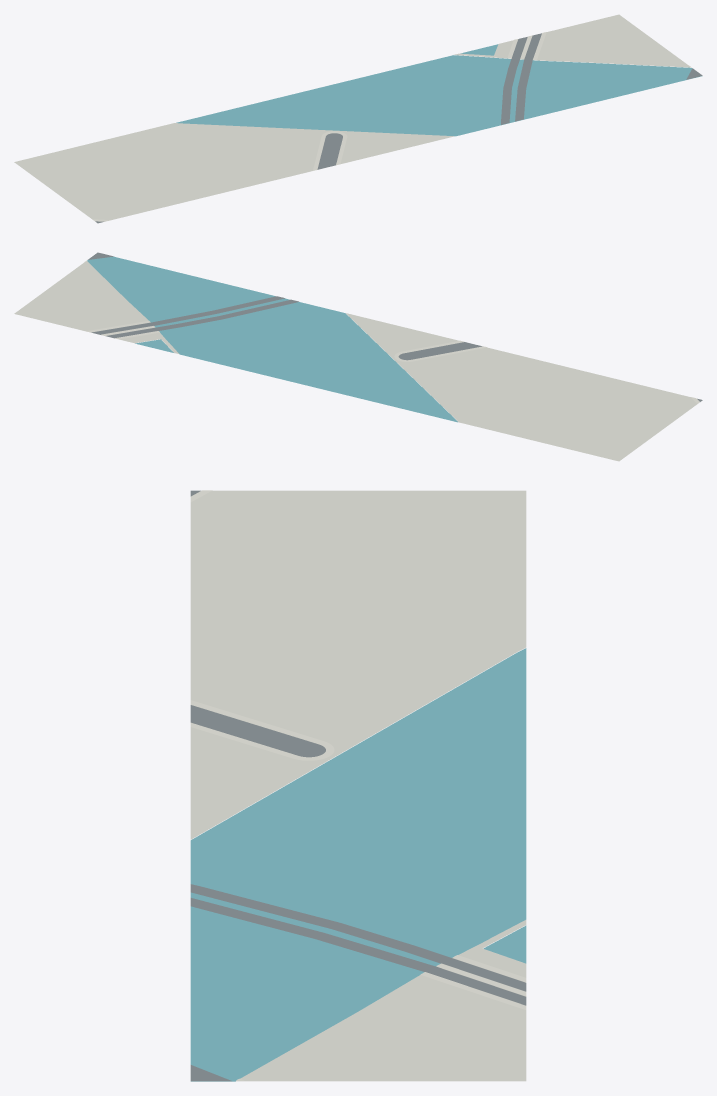
3 views of the same model, one above another, from view 1: azimuth 30°, elevation 25°; view 2: azimuth 150°, elevation 25°; view 3: azimuth 270°, elevation 25° (orthographic). The views are drawn at different scales.
Visible parts, largest first — view 1: city; view 2: city; view 3: city.
Boxes of the visible parts, x1,y1,x2,y2 form: city: (14,14,702,223); city: (14,252,702,461); city: (190,490,526,1081).
Bounding box in the file's own units: 500 × 0.4 × 120.
